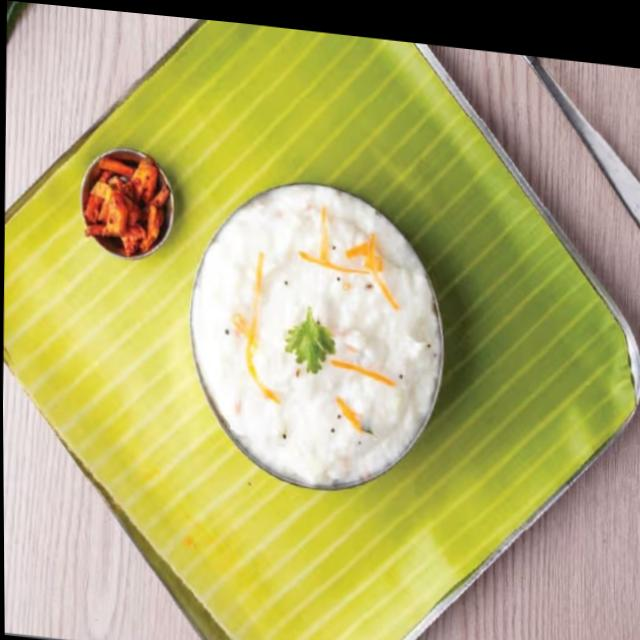CURD RICE: (189, 195, 431, 487)
PICKLE: (69, 146, 170, 253)
